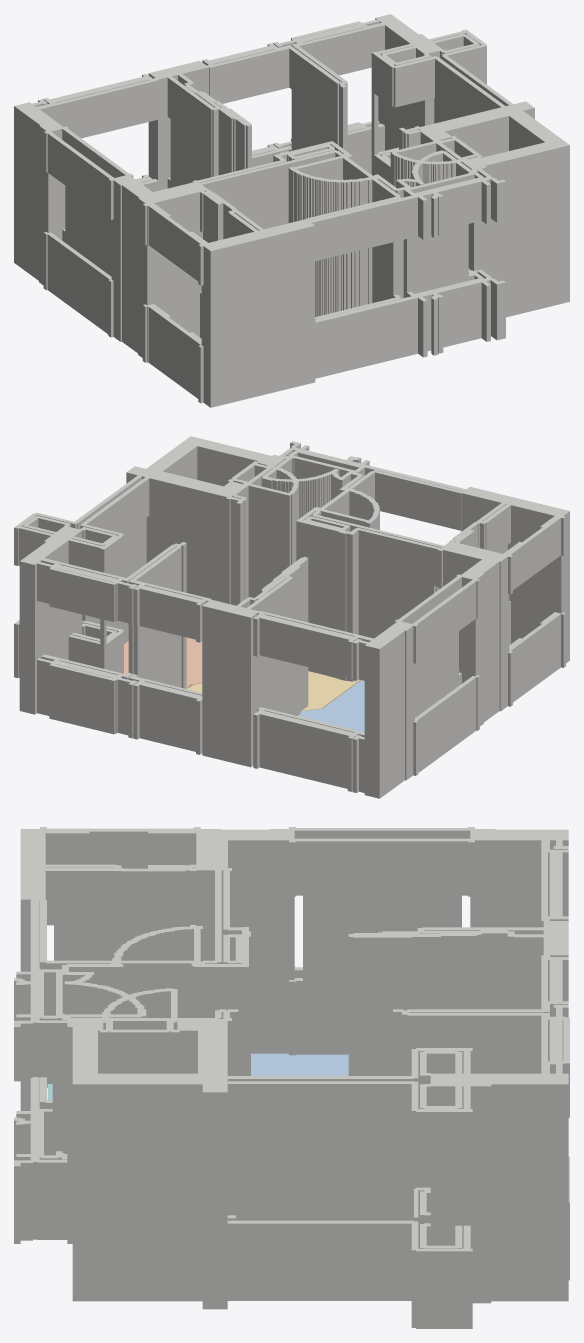
3 views of the same model, one above another, from view 1: azimuth 30°, elevation 25°; view 2: azimuth 150°, elevation 25°; view 3: azimuth 270°, elevation 25° (orthographic). The views are drawn at different scales.
Parts seen in each view (by area): view 1: walls; view 2: walls, room:bedroom:5, room:living:0, room:kitchen:1; view 3: walls, room:bedroom:5.
Boxes of the visible parts, x1=… form: walls: x1=14, y1=14, x2=569, y2=407; walls: x1=14, y1=436, x2=569, y2=798; room:bedroom:5: x1=298, y1=680, x2=364, y2=732; room:living:0: x1=186, y1=671, x2=361, y2=710; room:kitchen:1: x1=124, y1=637, x2=202, y2=686; walls: x1=14, y1=827, x2=569, y2=1328; room:bedroom:5: x1=251, y1=1053, x2=348, y2=1075.
Bounding box in the file's own units: 7.89 × 2.8 × 6.5.
